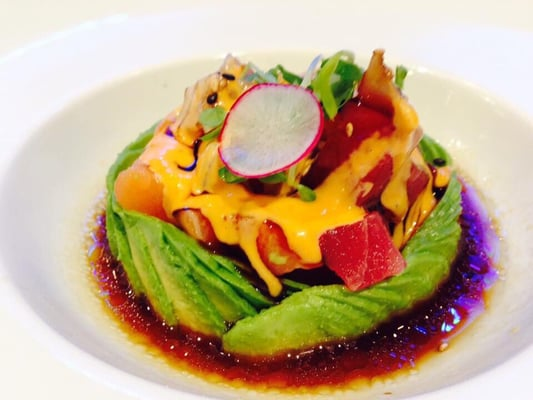soup: (80, 46, 491, 399)
